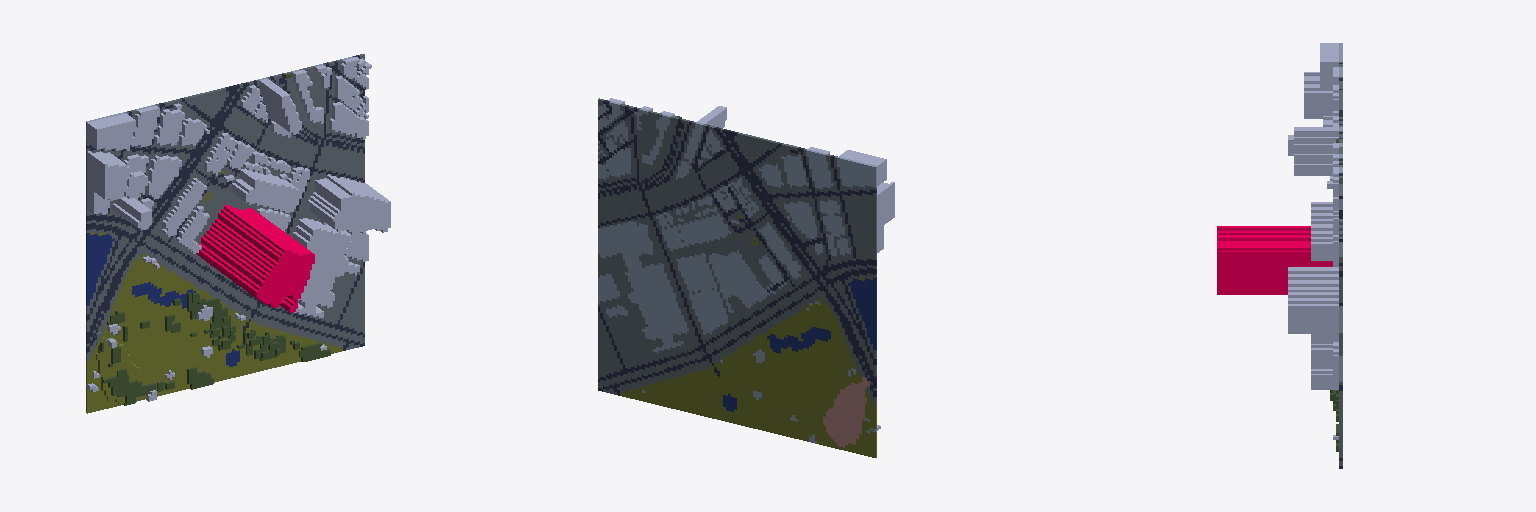
File: voxcity_landmark_visibility_test.obj
The picture shows the model from 3 angles: view 1: azimuth 30°, elevation 25°; view 2: azimuth 150°, elevation 25°; view 3: azimuth 270°, elevation 25°; orthographic projection.
Parts seen in each view (by area): view 1: object 1; view 2: object 1; view 3: object 1.
Part boxes in pixels (x1,y1,x2,y2): object 1: (86,54,390,413); object 1: (598,98,894,457); object 1: (1217,43,1342,468).
Bounding box in the file's own units: 500 × 500 × 195.